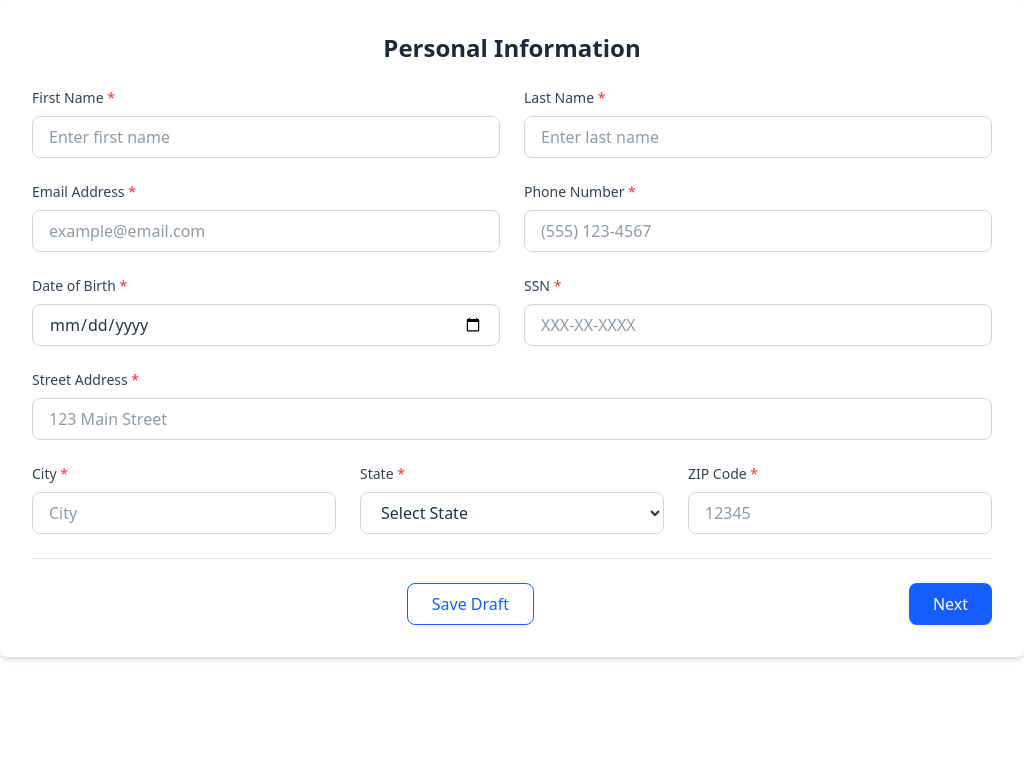
PersonalInformation Component › Validation - Field Formats › should show error for invalid email format
The width and height of the screenshot is (1024, 768).
Type "invalid-email" into the field labelled "Email Address *" at (266, 231), box [32, 210, 500, 252]
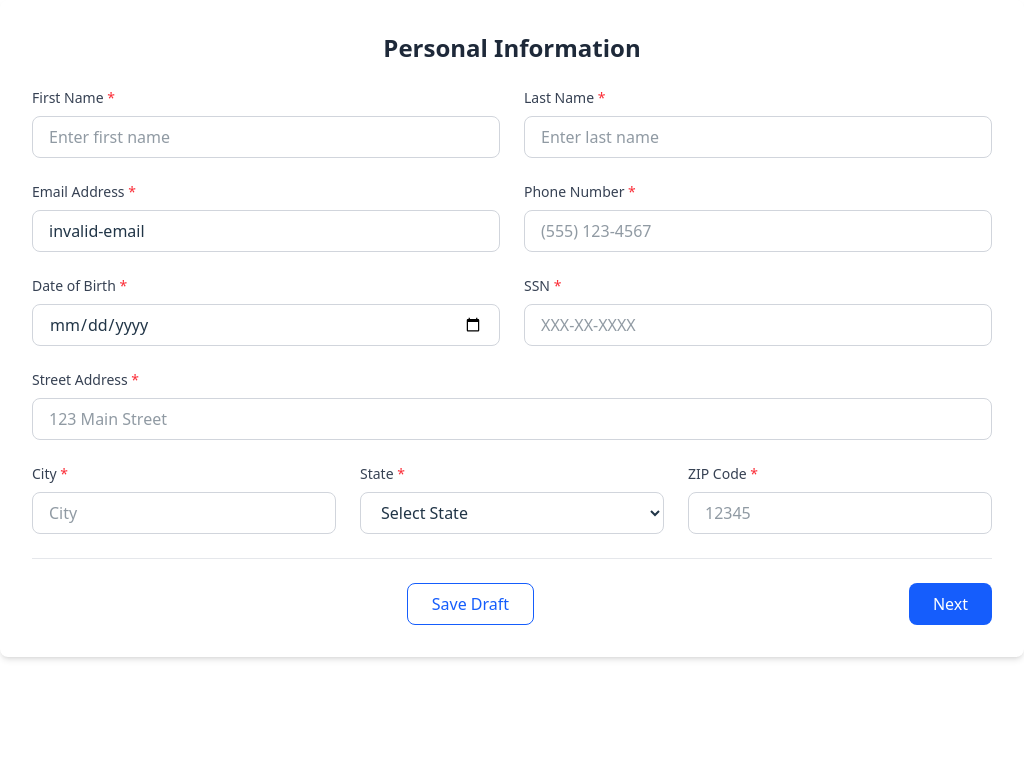
Leave the field labelled "Email Address *", box [32, 210, 500, 252]
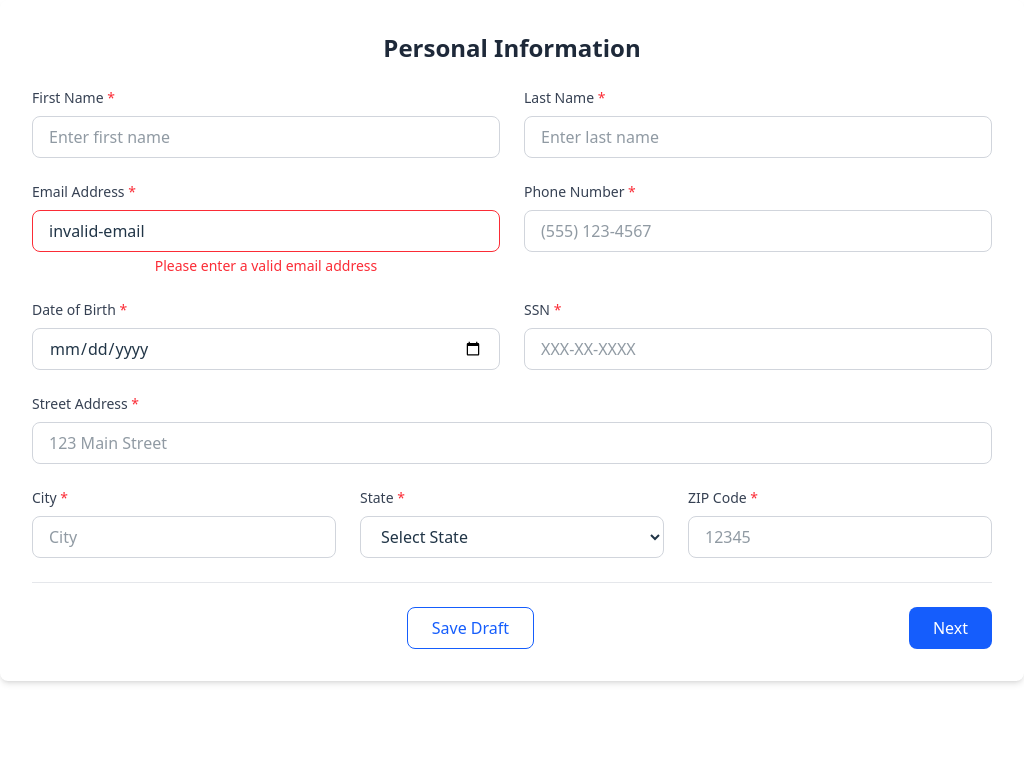
Check: the text "Please enter a valid email address" is shown, box [155, 256, 377, 275]
